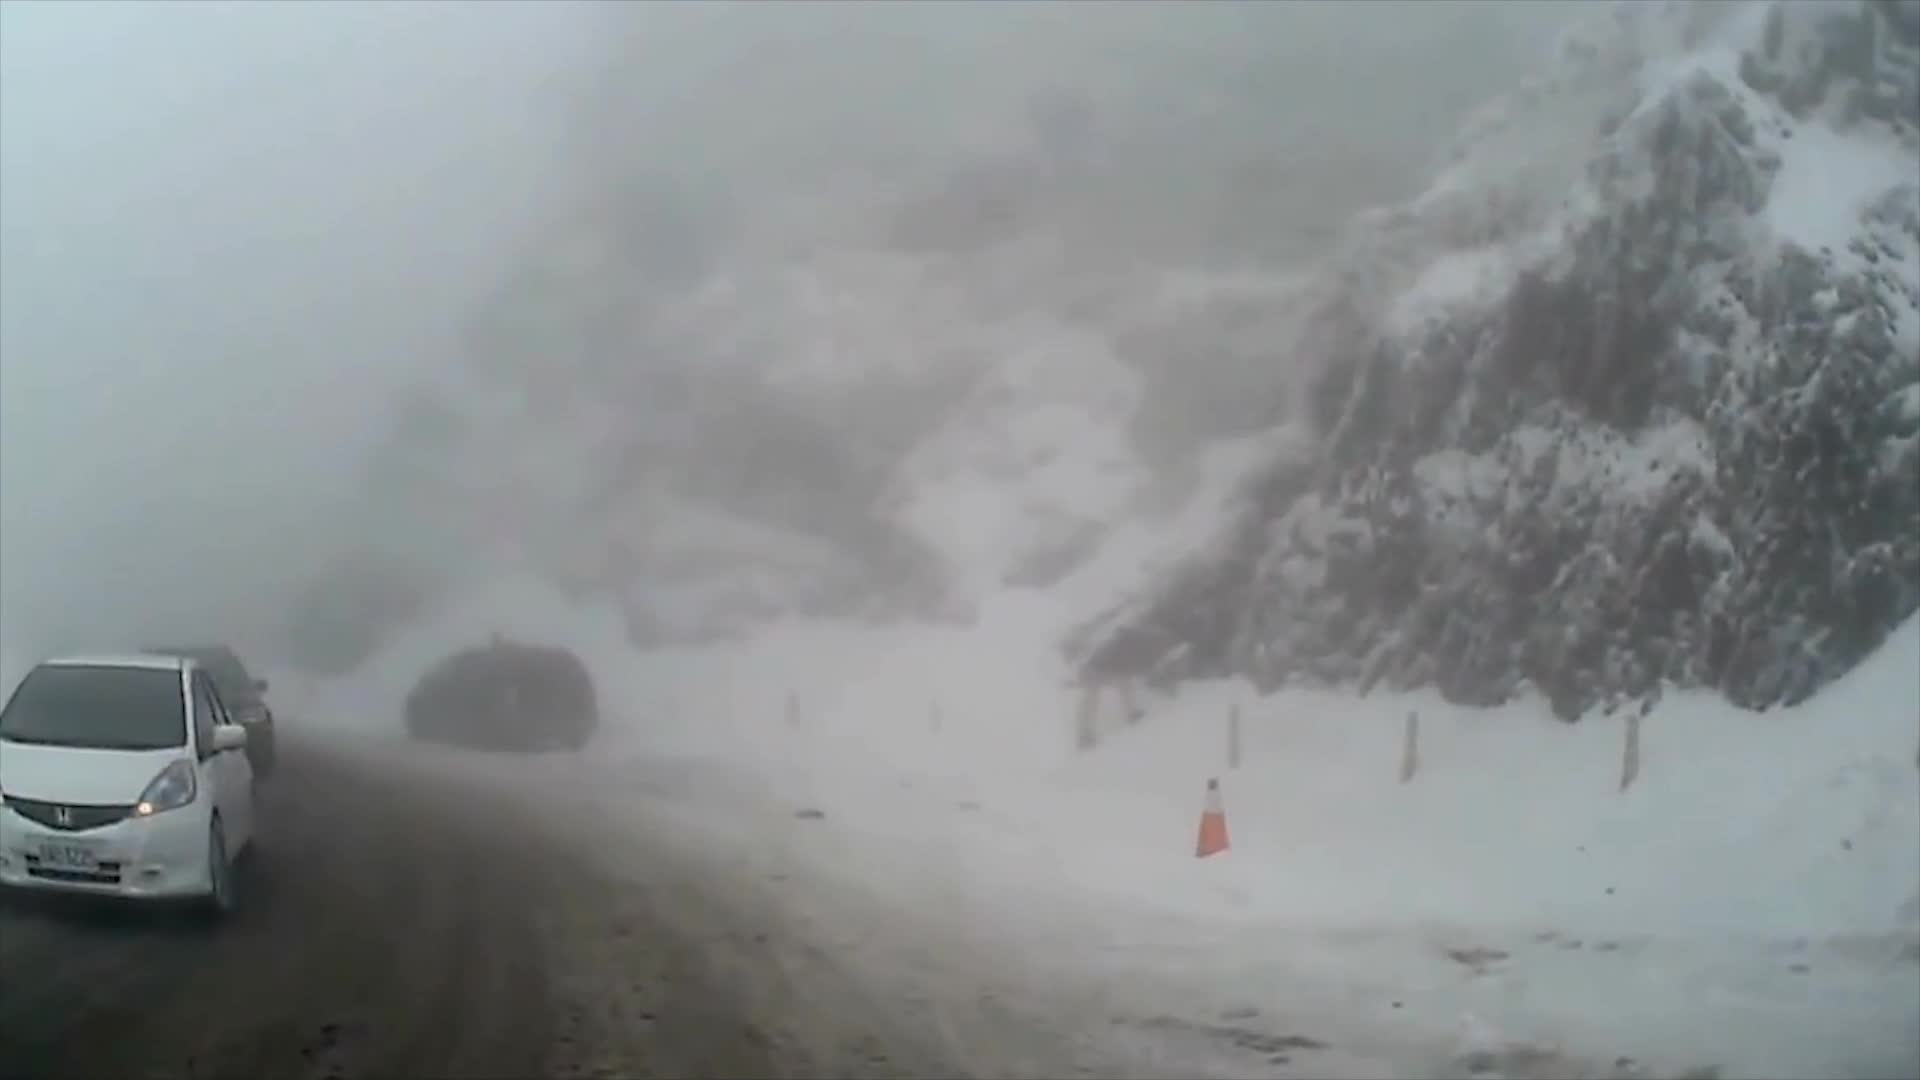vehicle: (0, 649, 261, 926), (407, 649, 603, 758)
